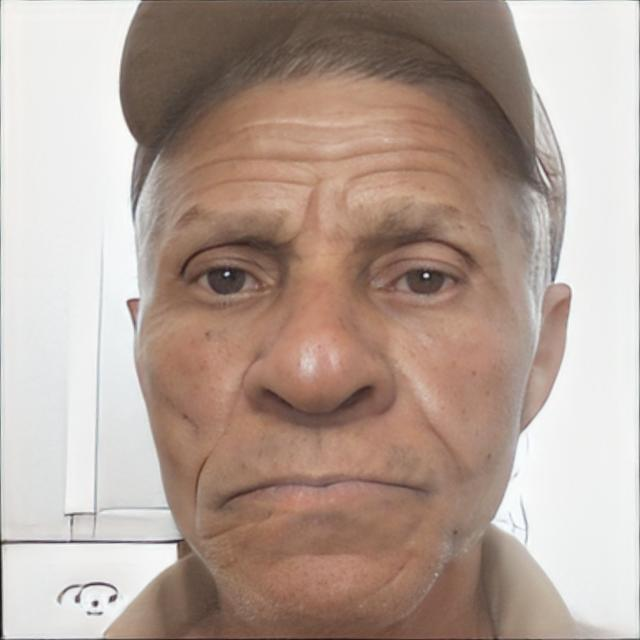sad: (137, 57, 532, 608)
